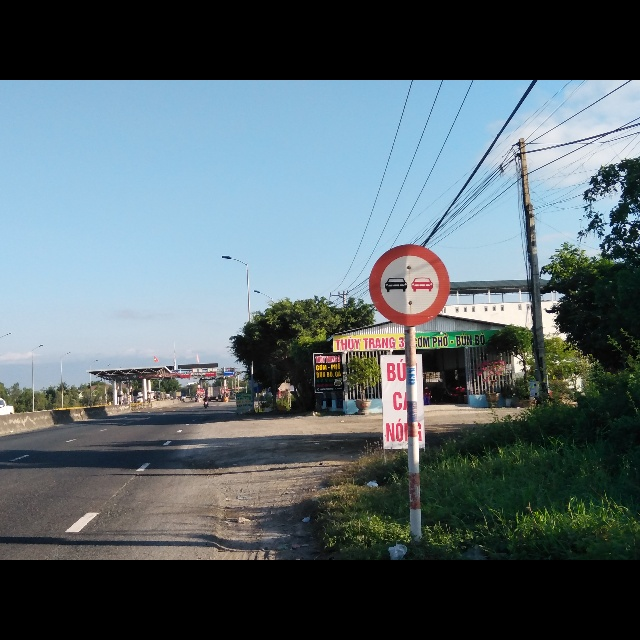Cấm vượt: (367, 244, 452, 328)
